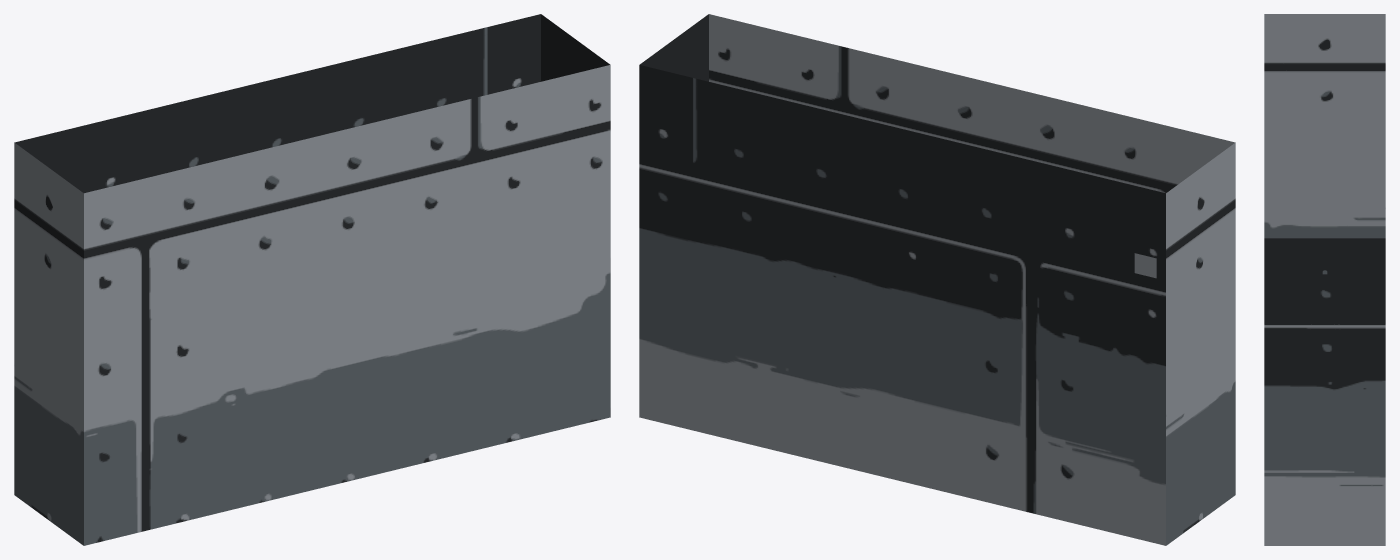
Rendered from 04Walls.fbx.
3 views of the same model, side by side, from view 1: azimuth 30°, elevation 25°; view 2: azimuth 150°, elevation 25°; view 3: azimuth 270°, elevation 25° (orthographic). The views are drawn at different scales.
Parts seen in each view (by area): view 1: Stairs__1_.019; view 2: Stairs__1_.019; view 3: Stairs__1_.019.
Part boxes in pixels (x1,y1,x2,y2): Stairs__1_.019: (14, 14, 610, 545); Stairs__1_.019: (639, 14, 1235, 545); Stairs__1_.019: (1264, 14, 1385, 545).
Size of the model in its own units: 911 by 583 by 208.
